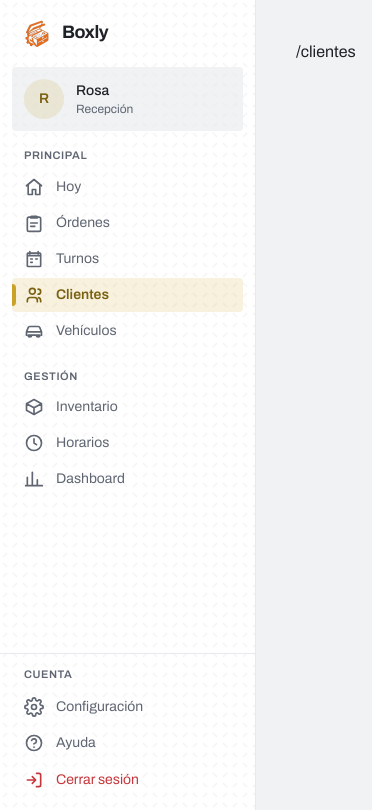
Test: AppLayout: logo › el logo y el nombre llevan al inicio del rol
Click the link with aria-label "Ir al inicio". click: [64, 32]
box: [20, 16, 108, 48]
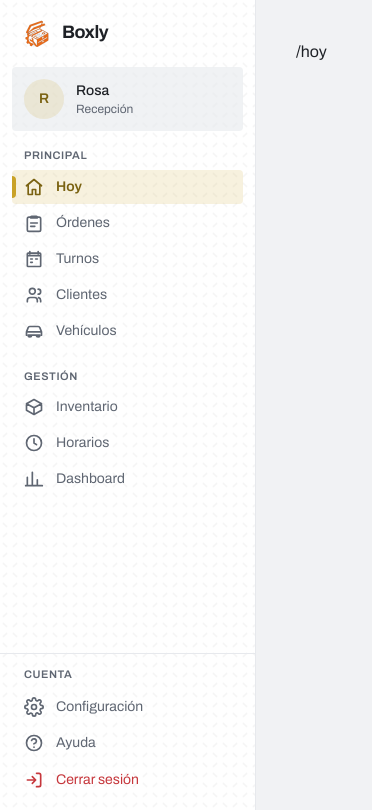
Expected: the text with test id "ubicacion" reads "/hoy", [296, 43, 327, 60]
